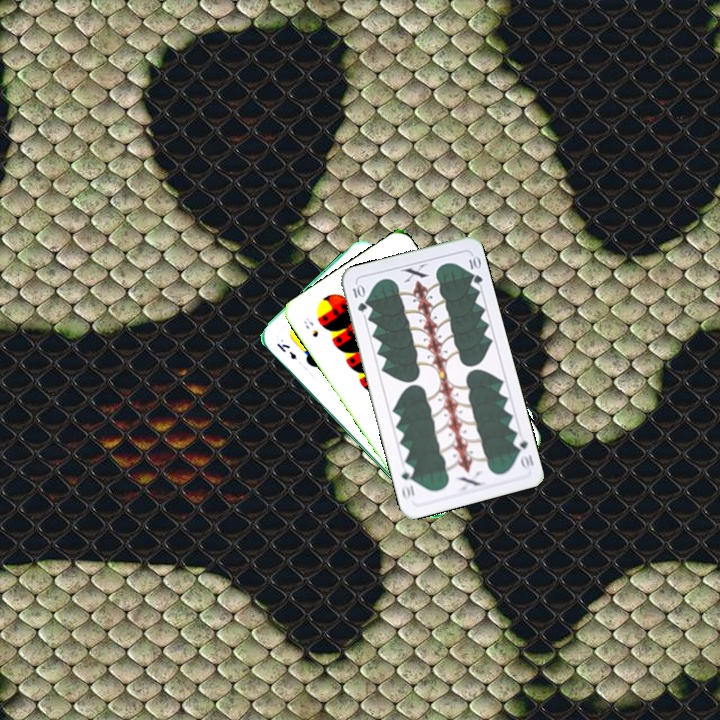EK: (272, 339, 299, 362)
G10: (509, 431, 536, 471), (348, 280, 369, 315)
S8: (300, 314, 321, 340)
